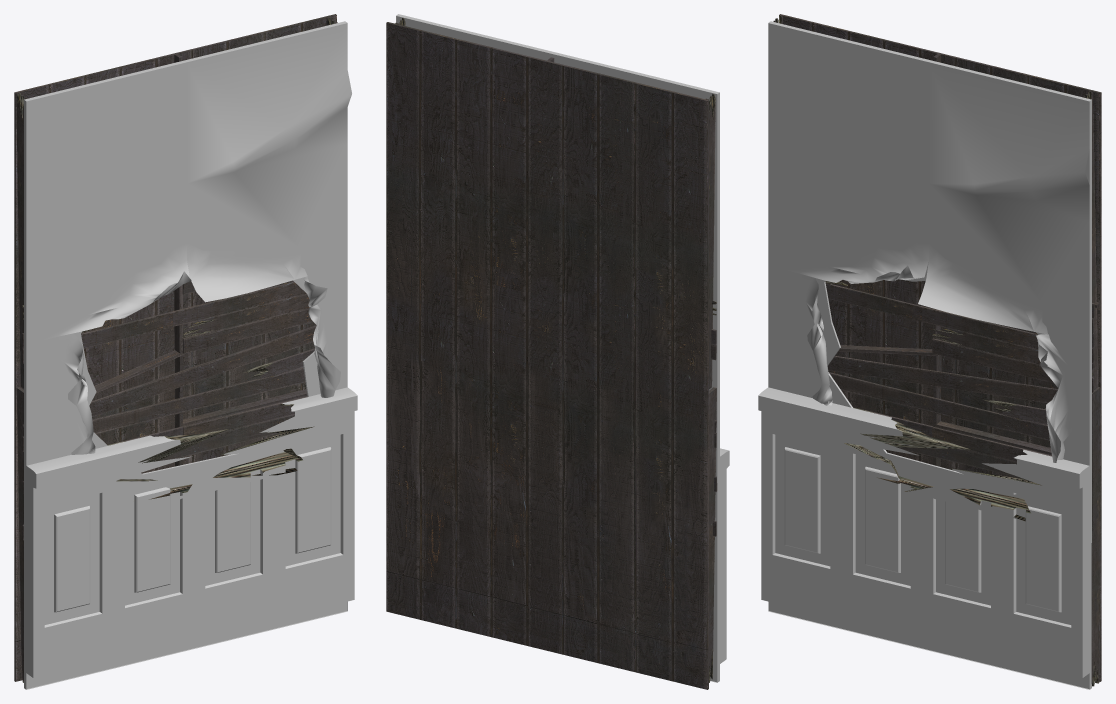
File: SM_Wall200B.FBX
The picture shows the model from 3 angles, left to right: view 1: azimuth 30°, elevation 25°; view 2: azimuth 150°, elevation 25°; view 3: azimuth 330°, elevation 25°; orthographic projection.
Parts seen in each view (by area): view 1: SM_Wall200B_LOD0; view 2: SM_Wall200B_LOD0; view 3: SM_Wall200B_LOD0.
Part boxes in pixels (box(x1,y1,x2,y2)): SM_Wall200B_LOD0: box(14, 14, 357, 689); SM_Wall200B_LOD0: box(386, 14, 729, 689); SM_Wall200B_LOD0: box(758, 14, 1101, 689).
Size of what is drawn, in the model's own units: 200 by 350 by 28.81.
